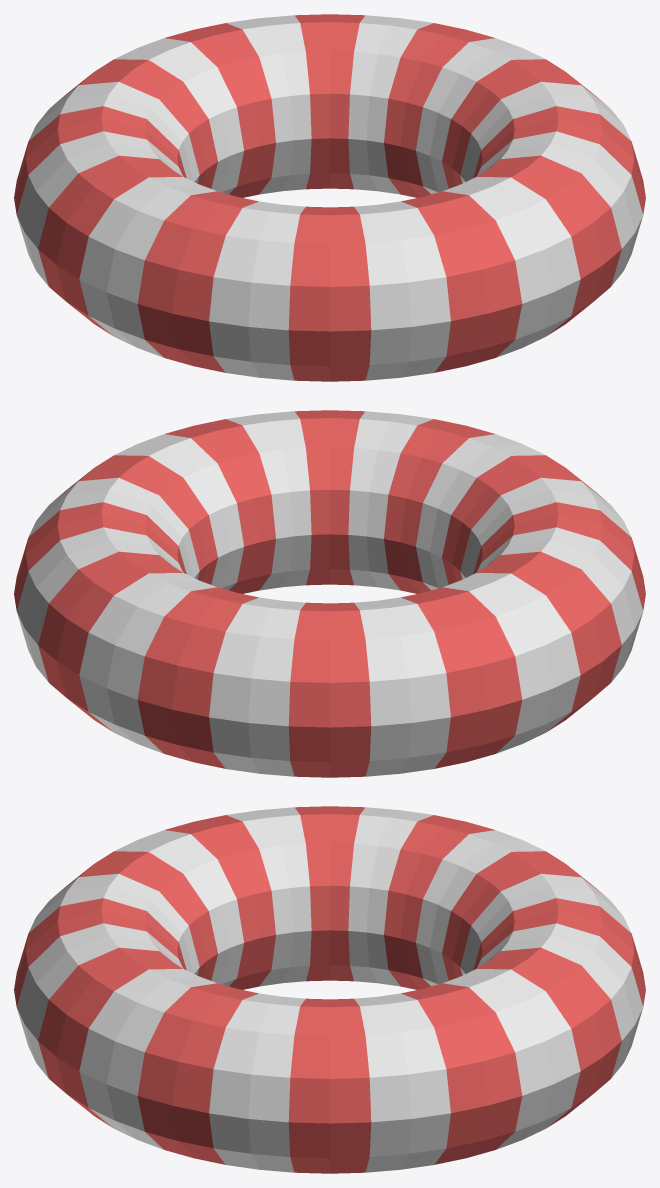
File: lifebuoy.fbx
The picture shows the model from 3 angles, top to bottom: view 1: azimuth 30°, elevation 25°; view 2: azimuth 150°, elevation 25°; view 3: azimuth 270°, elevation 25°; orthographic projection.
Parts seen in each view (by area): view 1: Lifebuoy; view 2: Lifebuoy; view 3: Lifebuoy.
Boxes of the visible parts, x1,y1,x2,y2 form: Lifebuoy: (14, 14, 645, 381); Lifebuoy: (14, 410, 645, 777); Lifebuoy: (14, 806, 645, 1173).
Size of the model in its own units: 260 by 72 by 260.
